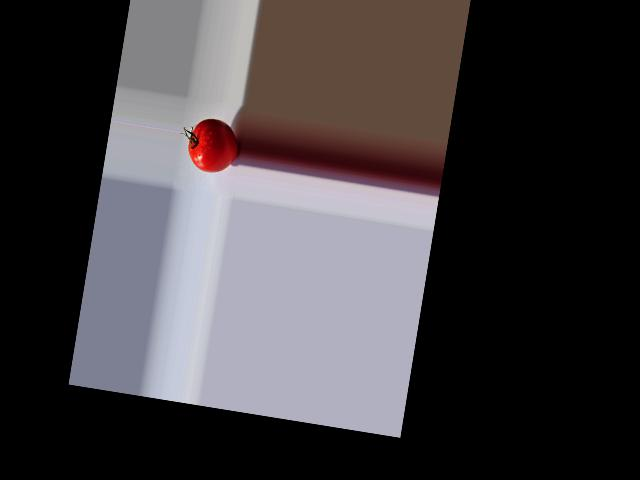tomato: (185, 116, 242, 176)
